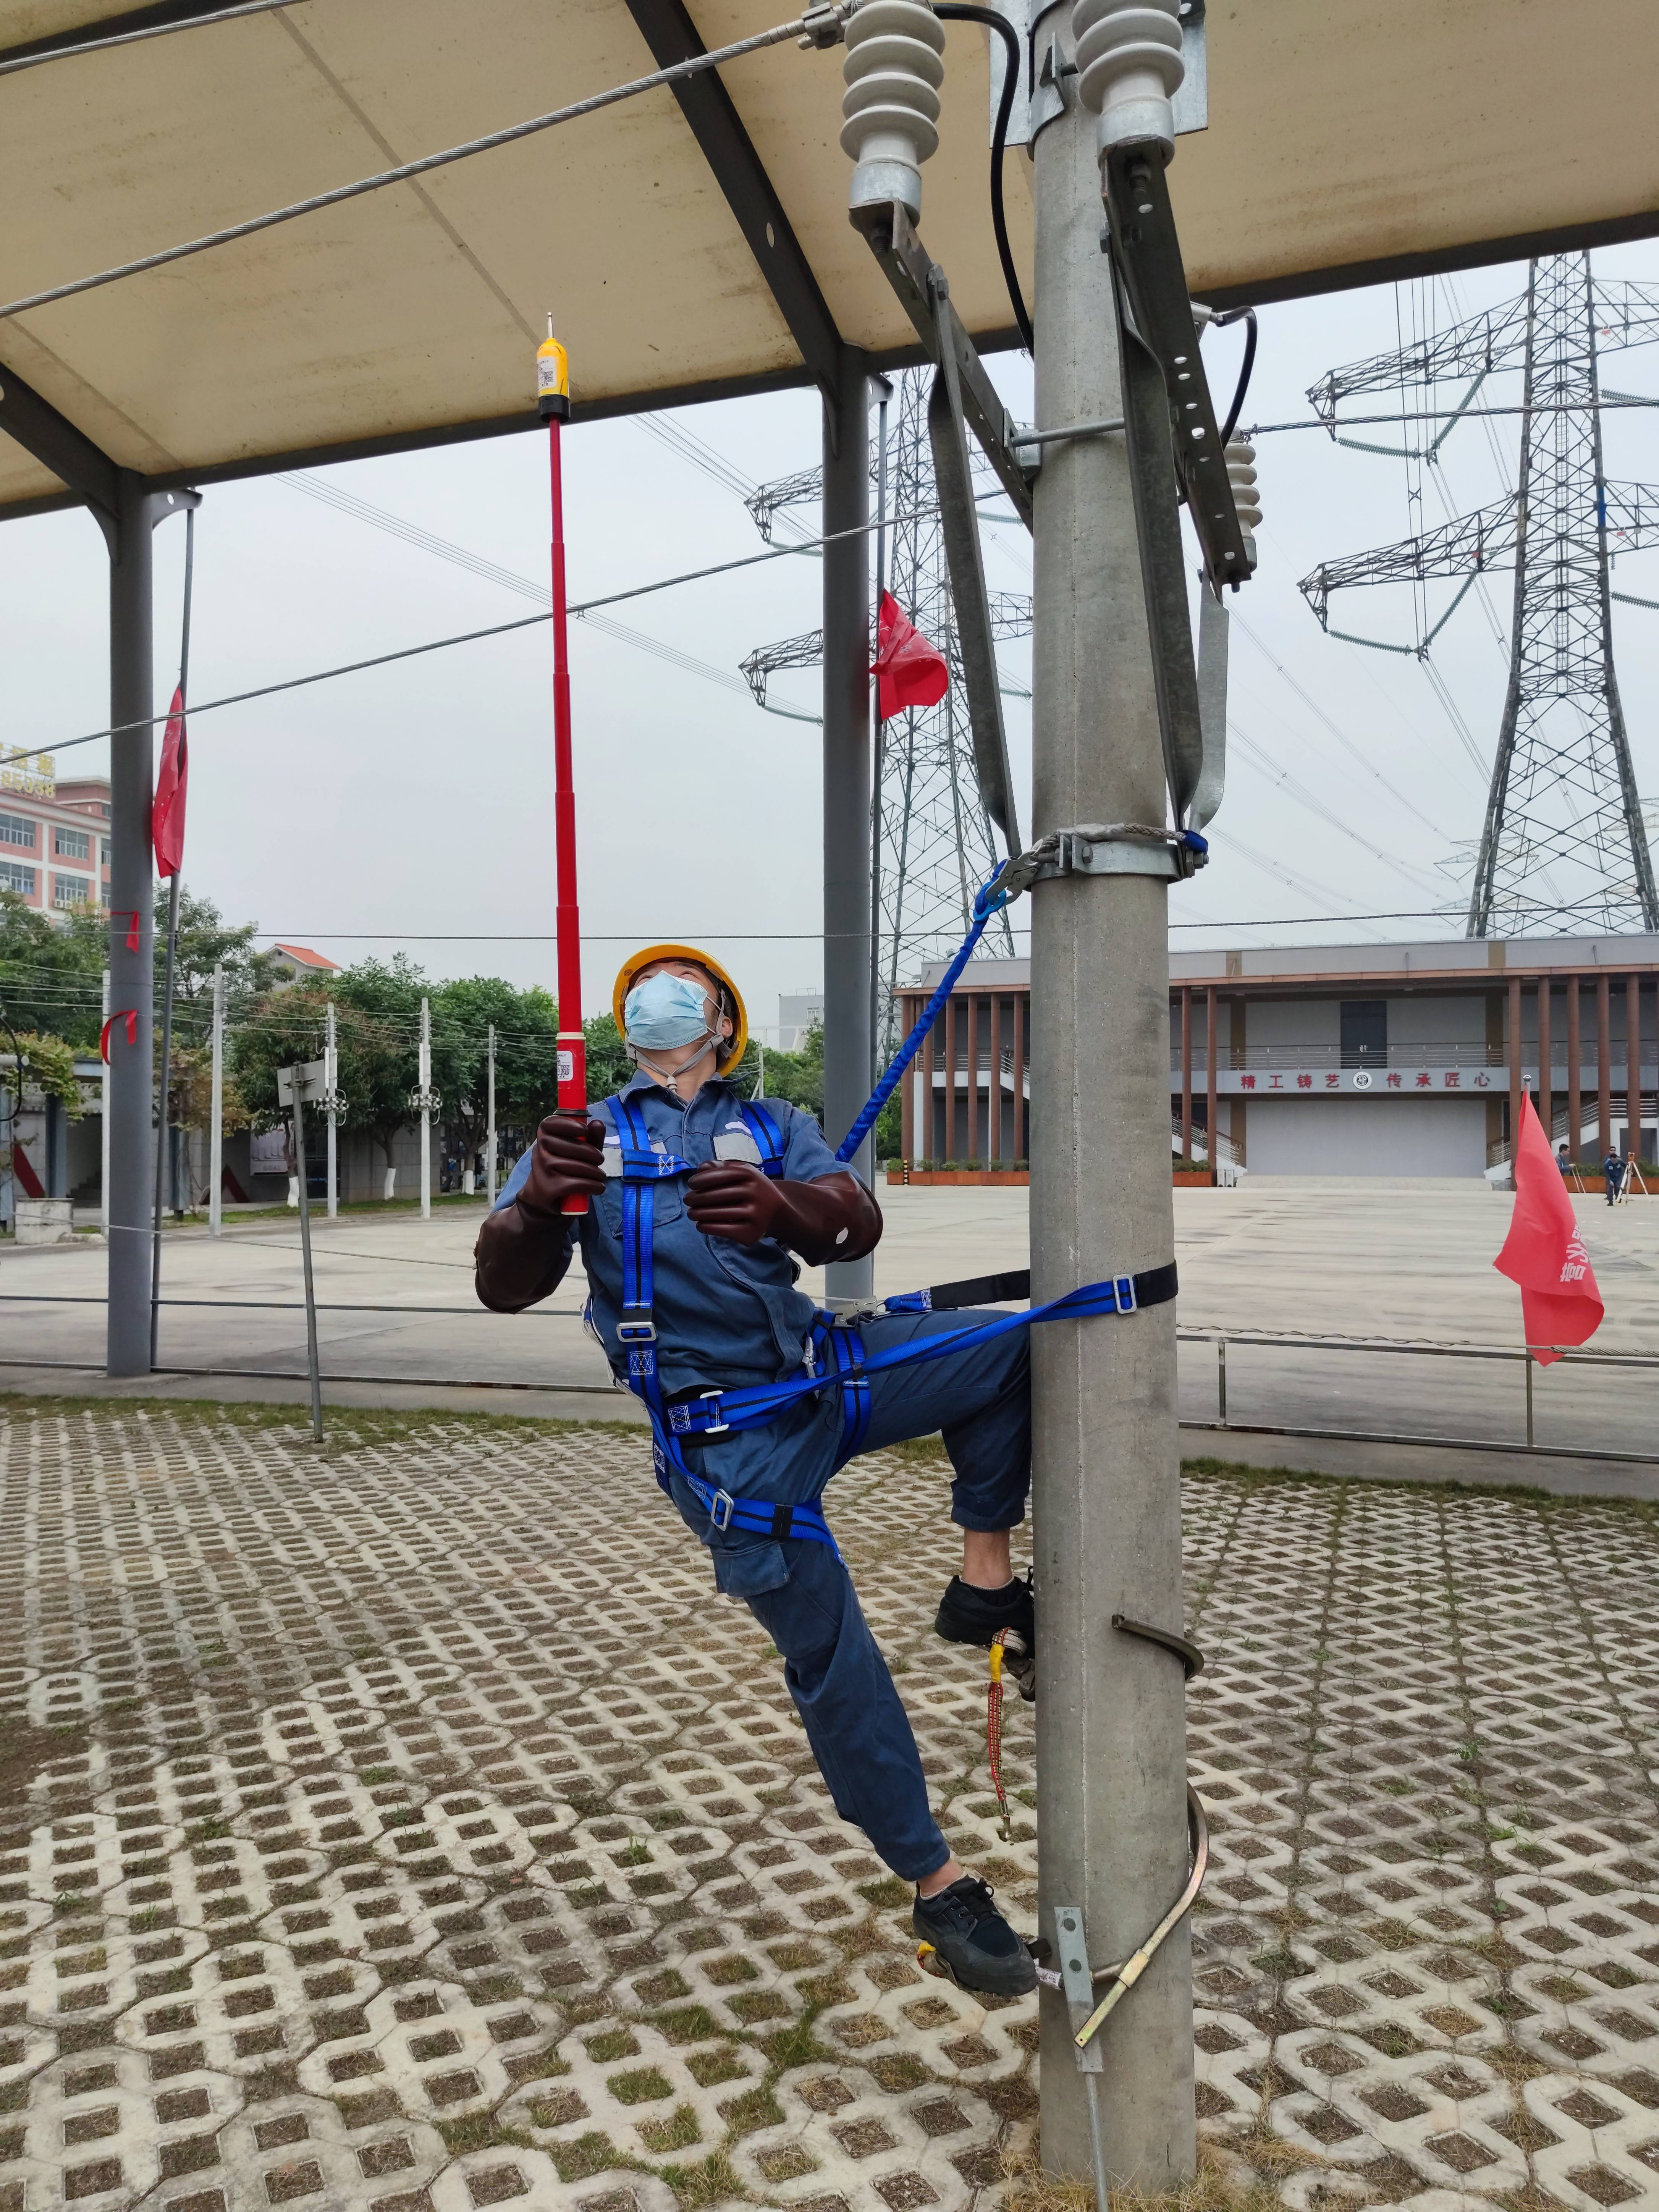downsuit: (711, 1306, 1032, 1888)
upsuit: (491, 1068, 884, 1343)
